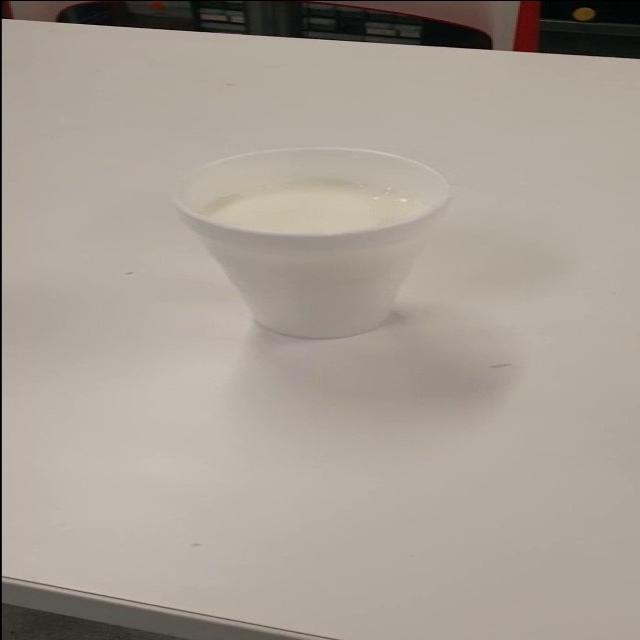Milk: (151, 132, 492, 359)
